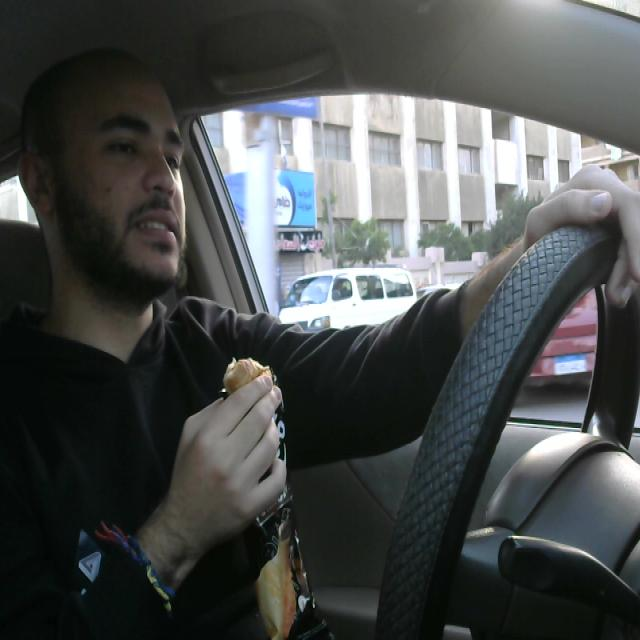eating: (217, 345, 335, 640)
